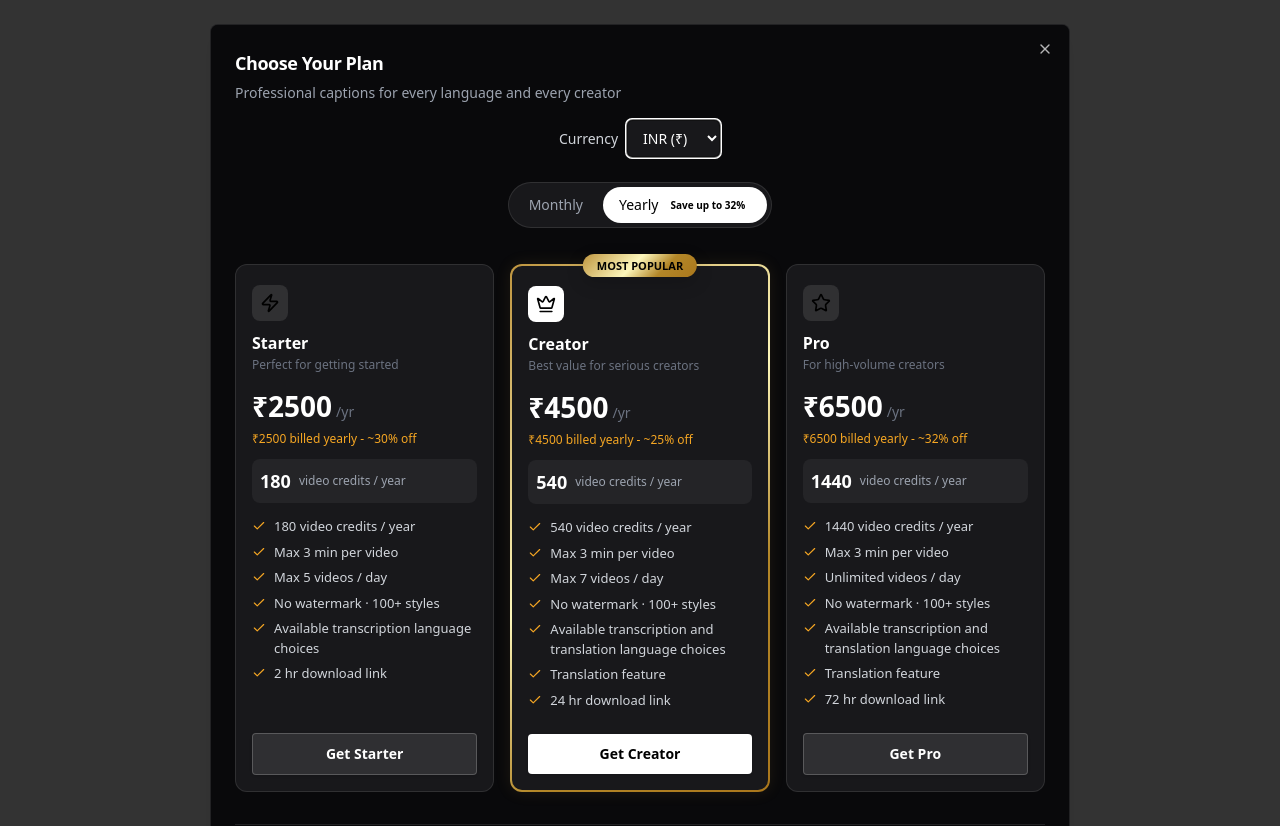
it: pricing currency follows the visitor country › shows dollars to a visitor outside India without any selection
The width and height of the screenshot is (1280, 826).
What coordinates should you click on to do the following:
click the button "Monthly"
I would click on:
 (556, 205)
Its box is top-left (513, 189), bottom-right (599, 221).
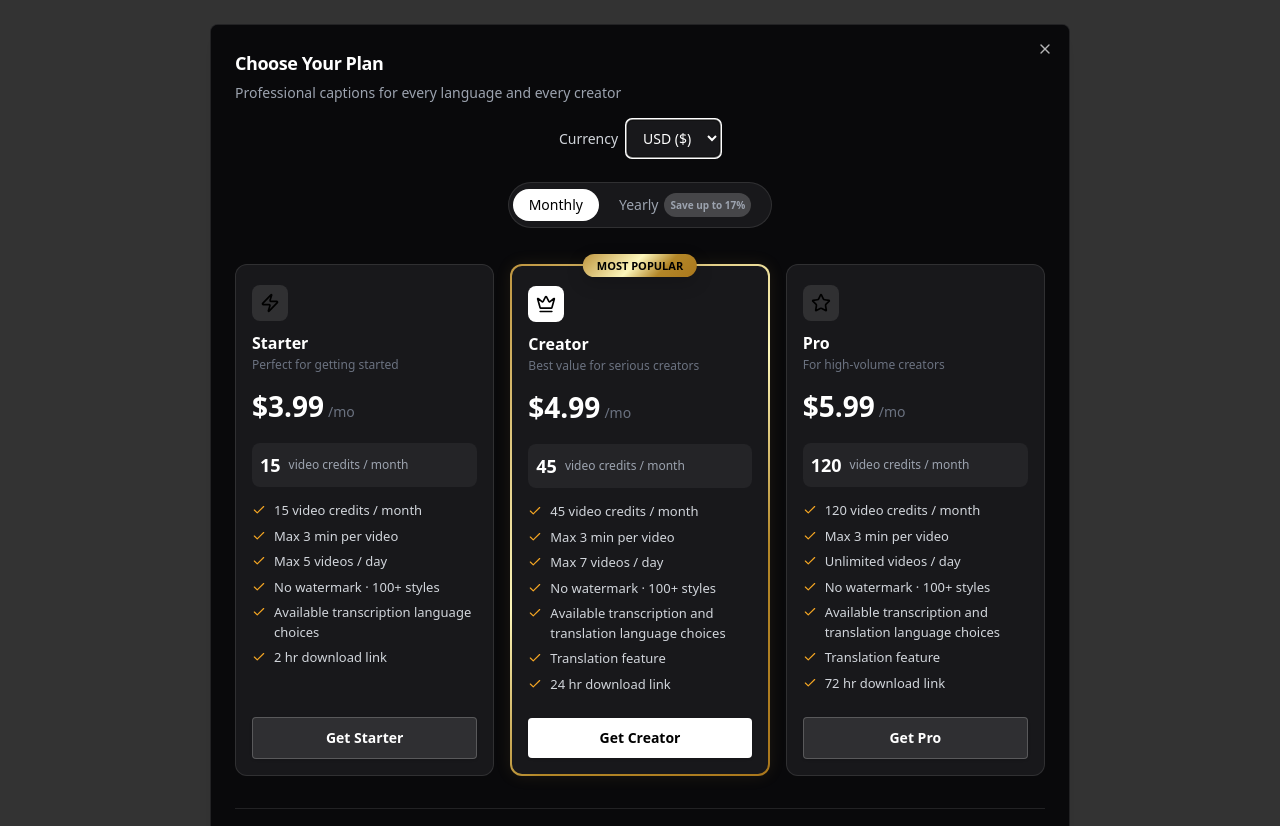
Result: the text "$3.99" is shown at top-left (252, 385), bottom-right (324, 427)
Result: the dropdown named "Billing currency" shows "USD ($)" at top-left (626, 119), bottom-right (721, 158)
